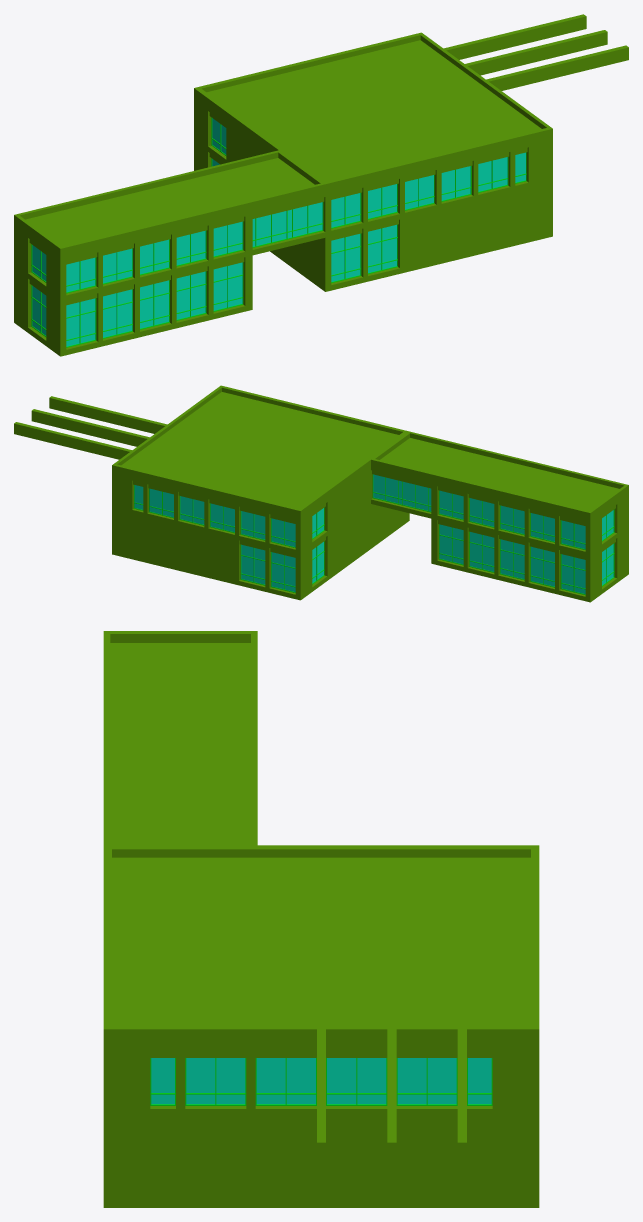
Rendered from SM_Bld_Blok5_01a.fbx.
3 renders of one model, top to bottom at view 1: azimuth 30°, elevation 25°; view 2: azimuth 150°, elevation 25°; view 3: azimuth 270°, elevation 25°, orthographic. The views are drawn at different scales.
Visible parts, largest first — view 1: SM_Bld_Blok5_01a, SM_Bld_Blok5_01b; view 2: SM_Bld_Blok5_01a, SM_Bld_Blok5_01b; view 3: SM_Bld_Blok5_01a, SM_Bld_Blok5_01b.
Boxes of the visible parts, bbox=[...] form: SM_Bld_Blok5_01a: bbox=[14, 14, 628, 356]; SM_Bld_Blok5_01b: bbox=[31, 117, 526, 347]; SM_Bld_Blok5_01a: bbox=[14, 385, 628, 602]; SM_Bld_Blok5_01b: bbox=[134, 474, 614, 594]; SM_Bld_Blok5_01a: bbox=[103, 631, 539, 1207]; SM_Bld_Blok5_01b: bbox=[150, 1058, 492, 1105].
Size of the model in its own units: 5000 by 814 by 1799.
